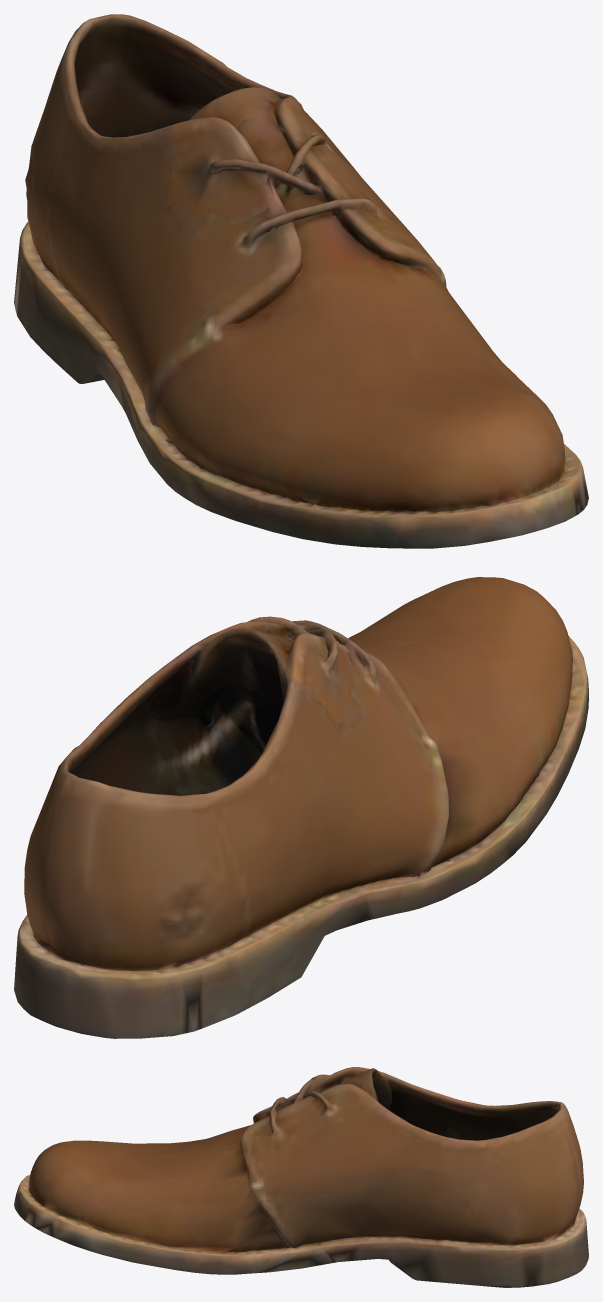
Rendered from Timberland_Mens_Earthkeepers_Stormbuck_Lite_Plain_Toe_Oxford-high.glb.
3 views of the same model, one above another, from view 1: azimuth 30°, elevation 25°; view 2: azimuth 150°, elevation 25°; view 3: azimuth 270°, elevation 25° (orthographic). The views are drawn at different scales.
Parts seen in each view (by area): view 1: Timberland_Mens_Earthkeepers_Stormbuck_Lite_Plain_Toe_Oxford; view 2: Timberland_Mens_Earthkeepers_Stormbuck_Lite_Plain_Toe_Oxford; view 3: Timberland_Mens_Earthkeepers_Stormbuck_Lite_Plain_Toe_Oxford.
Part boxes in pixels (<box>): Timberland_Mens_Earthkeepers_Stormbuck_Lite_Plain_Toe_Oxford: <box>14,14,588,548</box>; Timberland_Mens_Earthkeepers_Stormbuck_Lite_Plain_Toe_Oxford: <box>14,577,588,1038</box>; Timberland_Mens_Earthkeepers_Stormbuck_Lite_Plain_Toe_Oxford: <box>14,1067,588,1287</box>.
Bounding box in the file's own units: 0.1115 × 0.1114 × 0.3126.
Materials: 1 (1 with a texture image).
